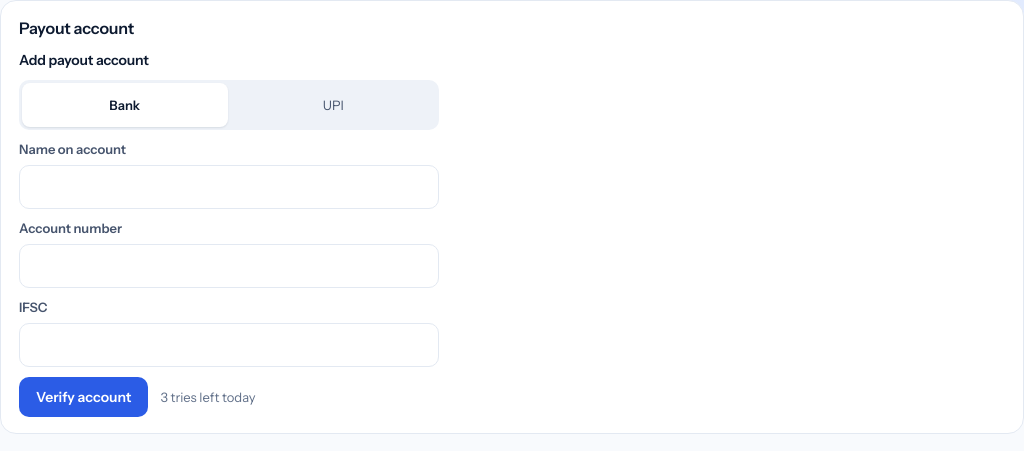
Test: shows a generic message when saving throws, and can retry
The image size is (1024, 451).
Step 1. Click the button "UPI" → (333, 106), box [230,84,436,128]
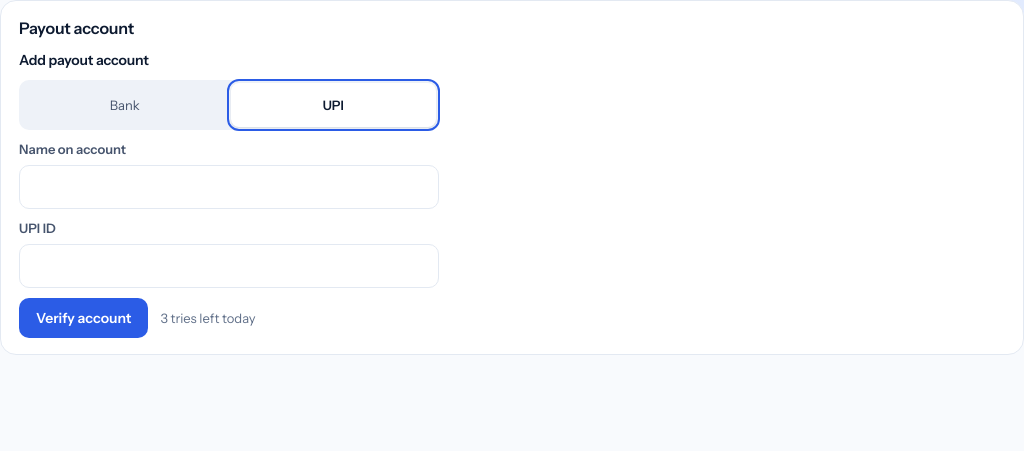
Step 2. Type "Asha Rao" into the field labelled "Name on account" → (229, 187), box [19,165,439,209]
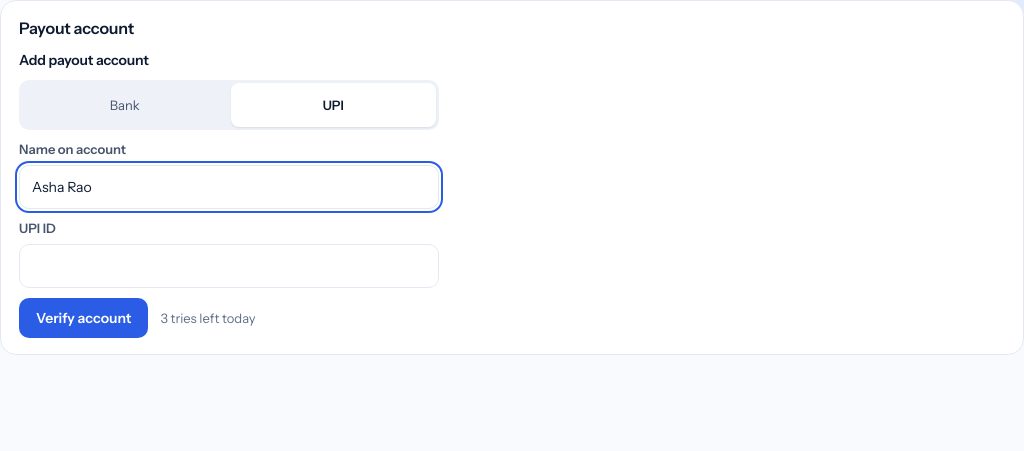
Step 3. Type "asha@okhdfc" into the field labelled "UPI ID" → (229, 266), box [19,244,439,288]
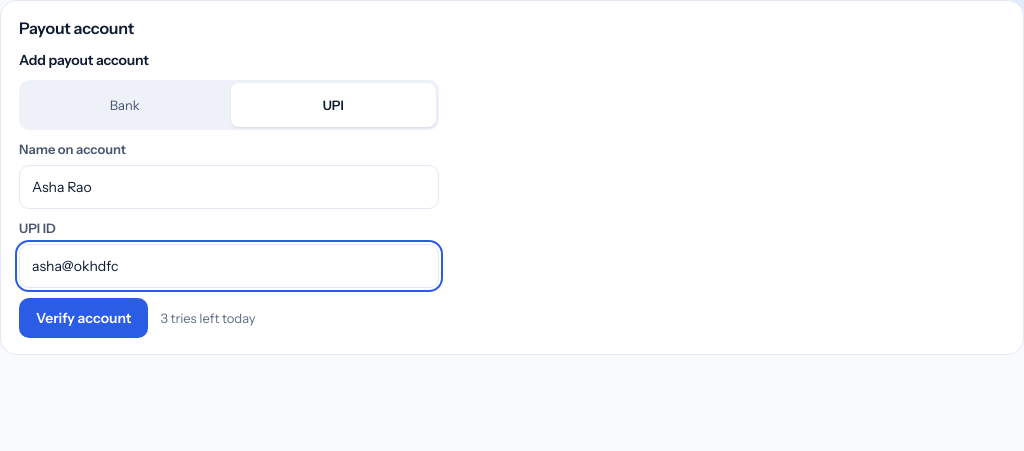
Step 4. Click the button "Verify account" → (84, 318), box [19,298,148,338]
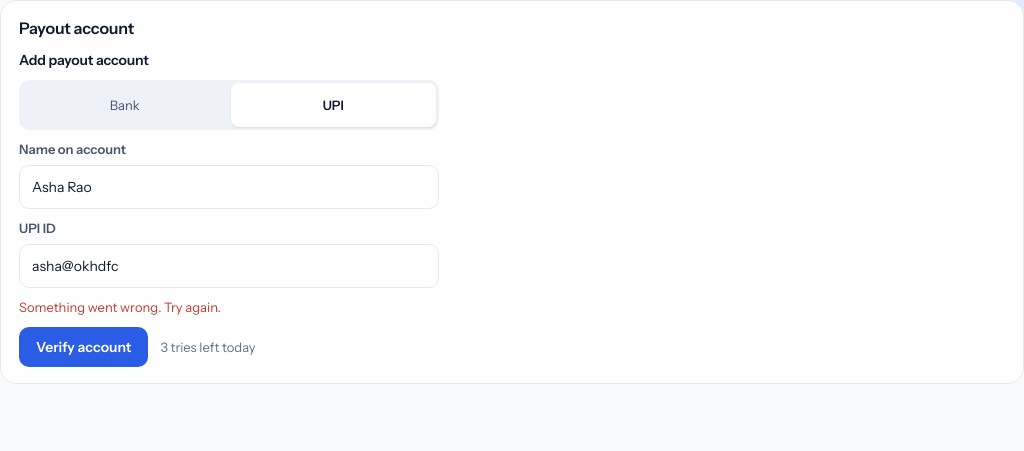
Expected: the button "Verify account" is enabled, [19,327,148,367]
Expected: the text "Something went wrong. Try again." is shown, [19,299,221,315]
